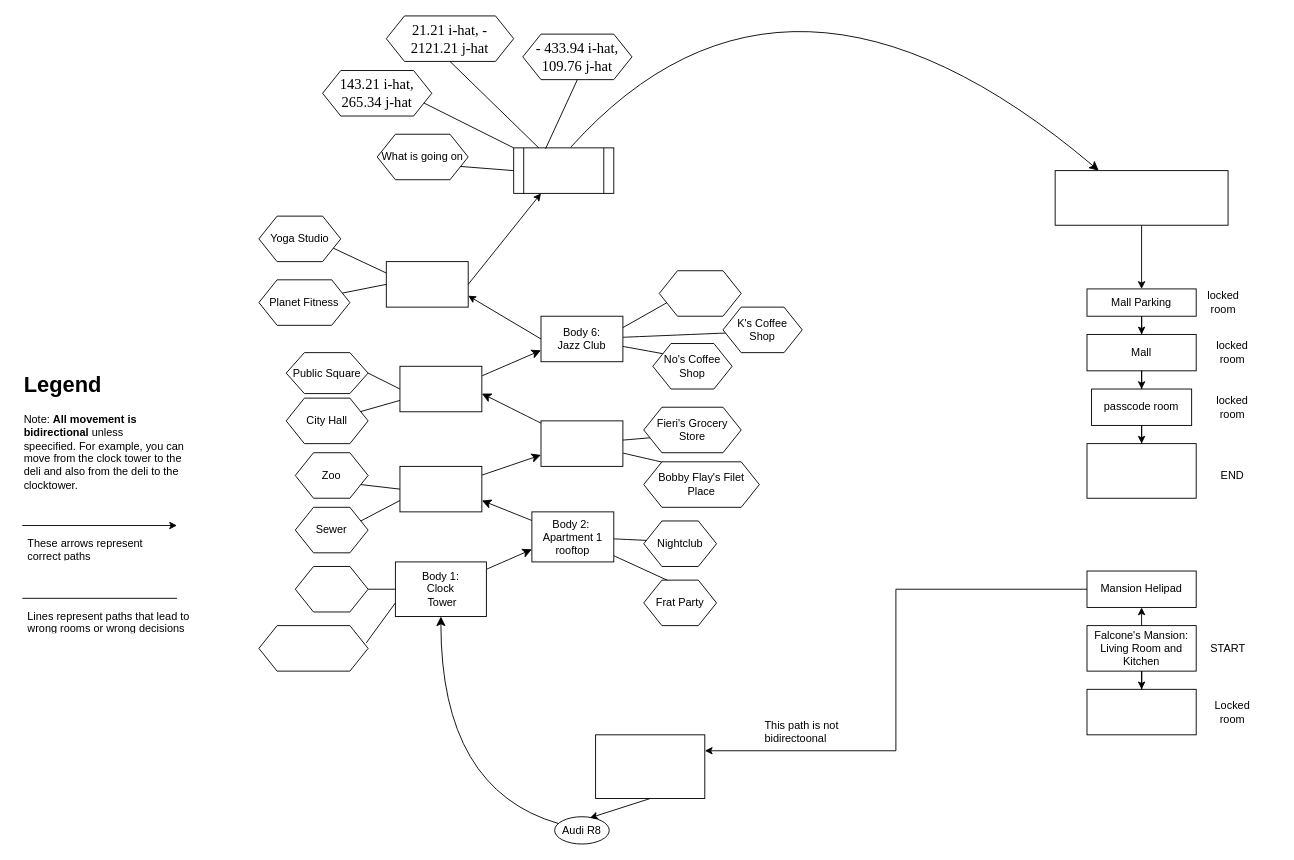
The diagram is 1294 pixels wide and 860 high, and some of its shapes have lost their labels. Here are the shapes that lost their labels. From the top down, the centre of each, then its label:
At (563,170): "Body 8: Ancient Library".
At (1141,197): "Abandoned Building: - 843.91 i-hat, - 665.74 j-hat".
At (426,284): "Body 7: Po's Coffee Shop".
At (699,293): "Ho's Coffee Shop".
At (440,388): "Body 5: Ramsay's Restaurant".
At (581,443): "Body 4: Nightfall bridge".
At (440,488): "Body 3: Casino".
At (1141,470): "Radioactive Warehouse in Mall".
At (331,589): "Deli".
At (313,648): "Aaron's Tattoo shop".
At (1141,711): "Falcone's Mansion: Weapon Armory".
At (650,766): "Police Station".
